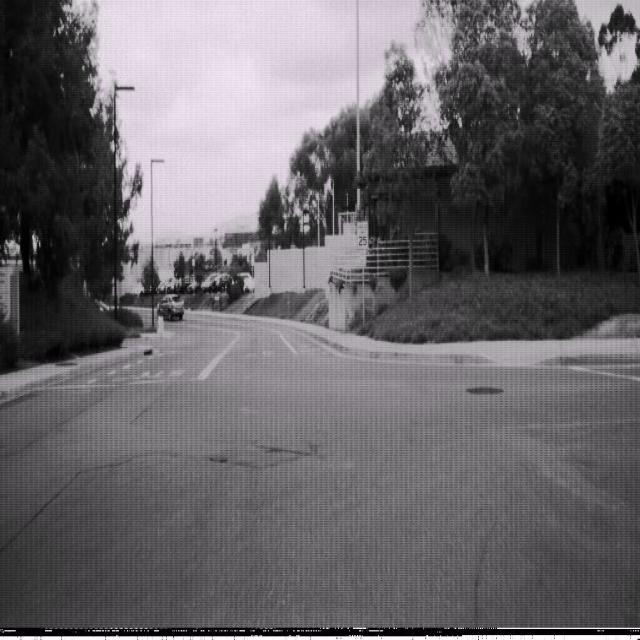speedLimit25: (356, 219, 368, 249)
